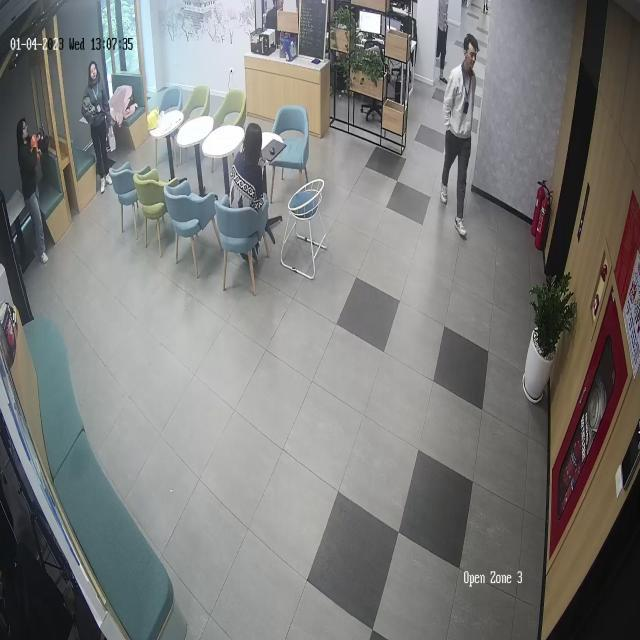person: (439, 34, 479, 240), (16, 117, 49, 265), (82, 60, 115, 192), (231, 121, 267, 206), (434, 0, 449, 82)
